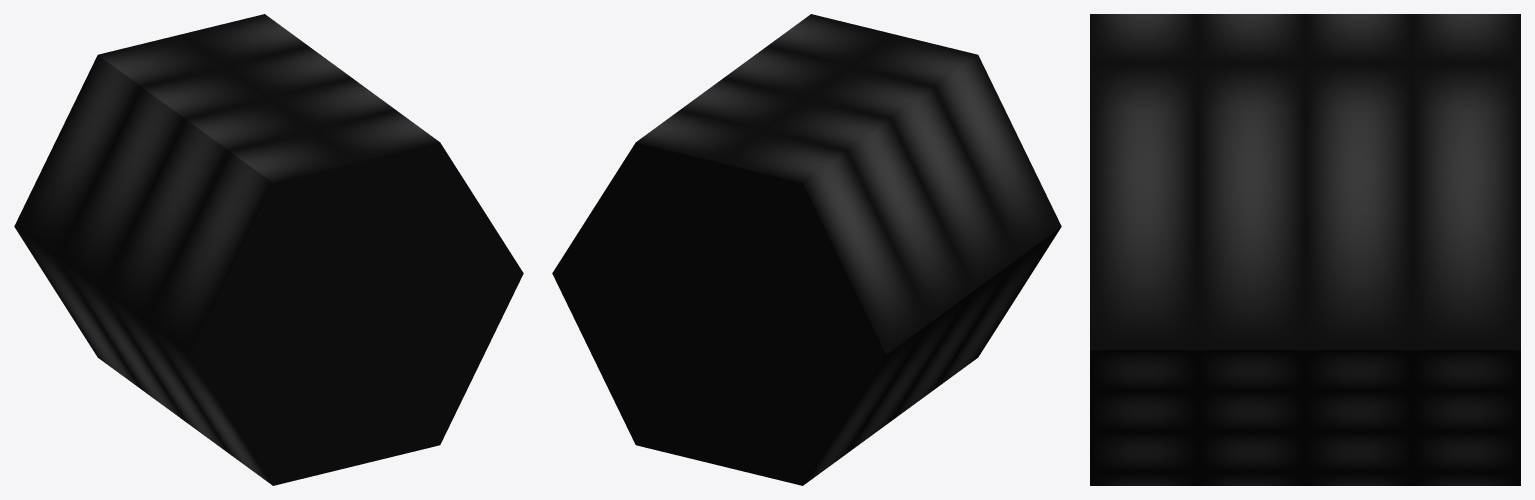
The model's file is hexprism-dark.glb.
The picture shows the model from 3 angles, left to right: view 1: azimuth 30°, elevation 25°; view 2: azimuth 150°, elevation 25°; view 3: azimuth 270°, elevation 25°; orthographic projection. The views are drawn at different scales.
Parts seen in each view (by area): view 1: world; view 2: world; view 3: world.
Boxes of the visible parts, <box> form: world: <box>14,14,523,485</box>; world: <box>552,14,1061,485</box>; world: <box>1090,14,1520,485</box>.
Size of the model in its own units: 1.1 by 0.9526 by 1.
Materials: 1 (1 with a texture image).
